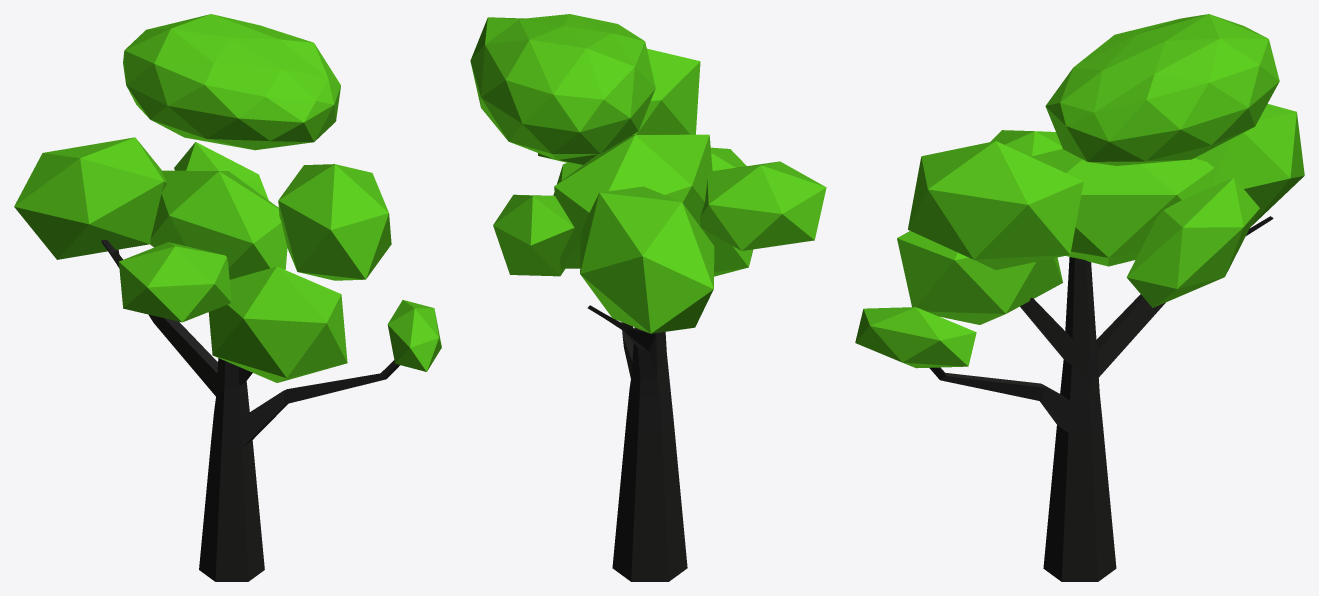
The model's file is tree5.fbx.
3 views of the same model, side by side, from view 1: azimuth 30°, elevation 25°; view 2: azimuth 150°, elevation 25°; view 3: azimuth 270°, elevation 25° (orthographic). The views are drawn at different scales.
Parts seen in each view (by area): view 1: Icosphere.011, Cylinder.001, Icosphere.007, Icosphere.010, Icosphere.008, Icosphere.009, Icosphere.012, Icosphere.013, Icosphere.014; view 2: Icosphere.011, Icosphere.007, Cylinder.001, Icosphere.009, Icosphere.012, Icosphere.014, Icosphere.008, Icosphere.010; view 3: Icosphere.011, Cylinder.001, Icosphere.008, Icosphere.009, Icosphere.014, Icosphere.010, Icosphere.007, Icosphere.013, Icosphere.012.
Part boxes in pixels (left/top/right/bottom): Icosphere.011: left=123, top=14, right=340, bottom=150; Cylinder.001: left=101, top=240, right=399, bottom=581; Icosphere.007: left=14, top=137, right=167, bottom=259; Icosphere.010: left=208, top=266, right=347, bottom=382; Icosphere.008: left=278, top=164, right=391, bottom=280; Icosphere.009: left=150, top=170, right=287, bottom=279; Icosphere.012: left=119, top=242, right=231, bottom=322; Icosphere.013: left=387, top=300, right=441, bottom=371; Icosphere.014: left=174, top=142, right=268, bottom=200; Icosphere.011: left=470, top=14, right=655, bottom=159; Icosphere.007: left=580, top=186, right=714, bottom=333; Cylinder.001: left=587, top=305, right=687, bottom=581; Icosphere.009: left=554, top=134, right=712, bottom=268; Icosphere.012: left=700, top=161, right=826, bottom=250; Icosphere.014: left=493, top=194, right=574, bottom=276; Icosphere.008: left=538, top=48, right=700, bottom=165; Icosphere.010: left=702, top=147, right=753, bottom=276; Icosphere.011: left=1045, top=14, right=1279, bottom=165; Cylinder.001: left=929, top=216, right=1273, bottom=581; Icosphere.008: left=908, top=141, right=1083, bottom=269; Icosphere.009: left=1030, top=148, right=1214, bottom=266; Icosphere.014: left=1126, top=177, right=1259, bottom=307; Icosphere.010: left=897, top=231, right=1062, bottom=324; Icosphere.007: left=1194, top=104, right=1304, bottom=226; Icosphere.013: left=855, top=307, right=976, bottom=368; Icosphere.012: left=990, top=130, right=1062, bottom=156.
Size of the model in its own units: 262 by 452 by 333.
